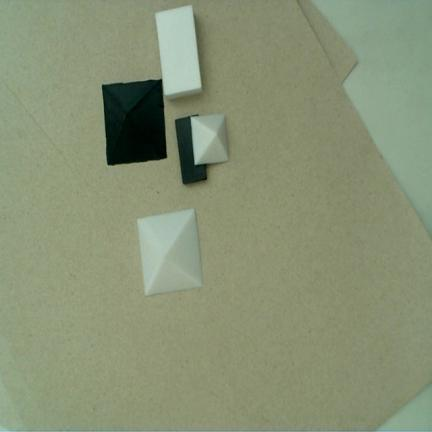Paralelepipedo: (155, 5, 203, 99), (174, 113, 208, 185)
Piramide: (136, 208, 203, 296), (102, 79, 167, 166), (190, 114, 230, 165)
